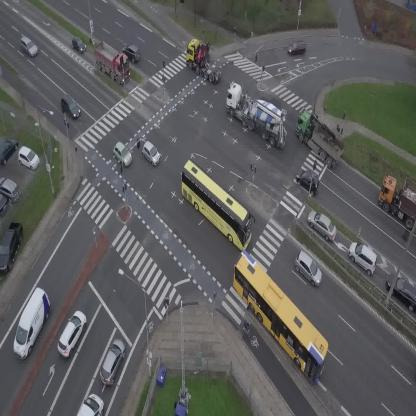bicycle: (240, 319, 250, 338)
bus: (215, 249, 343, 384), (167, 158, 265, 252)
car: (52, 308, 91, 359), (96, 337, 130, 387), (343, 238, 385, 277), (289, 249, 329, 288), (302, 206, 342, 244), (291, 165, 326, 198), (108, 140, 136, 168), (137, 140, 165, 167), (56, 93, 83, 121), (16, 34, 40, 59), (121, 40, 144, 64), (67, 34, 88, 56), (287, 40, 307, 55)
lorry: (214, 80, 301, 151), (4, 285, 58, 362), (287, 106, 351, 170), (85, 36, 139, 87), (179, 33, 224, 89), (379, 174, 416, 233), (77, 394, 104, 416)
